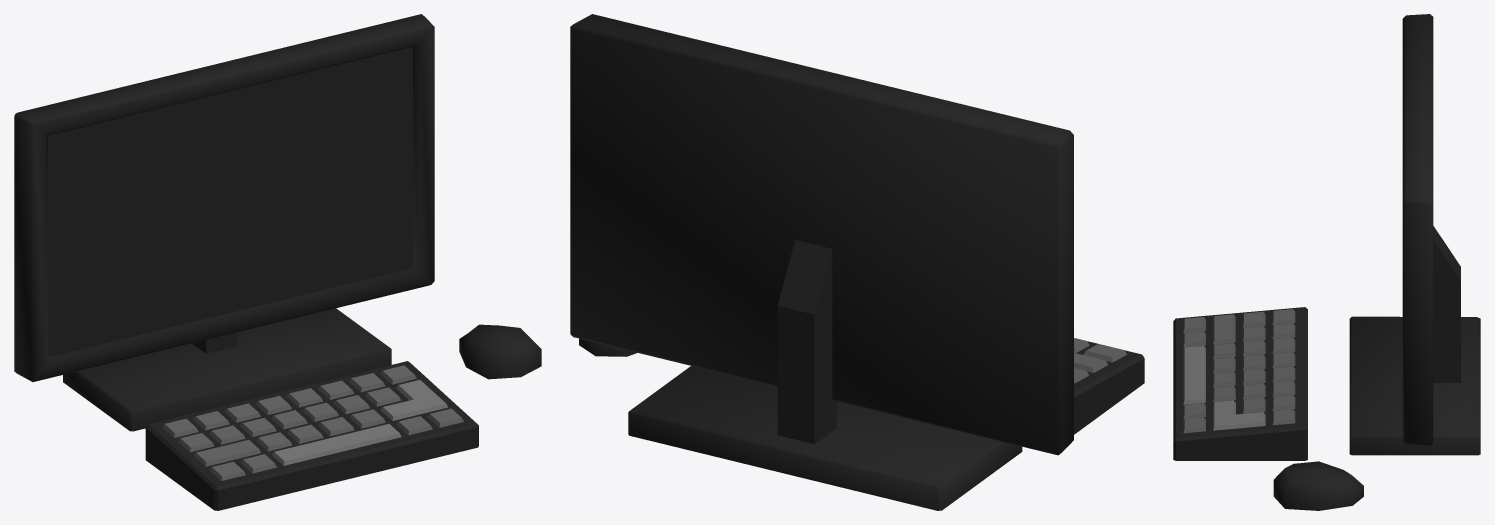
The model's file is electronics_018.fbx.
The picture shows the model from 3 angles, left to right: view 1: azimuth 30°, elevation 25°; view 2: azimuth 150°, elevation 25°; view 3: azimuth 270°, elevation 25°; orthographic projection. The views are drawn at different scales.
Visible parts, largest first — view 1: electronics_018; view 2: electronics_018; view 3: electronics_018.
Boxes of the visible parts, x1,y1,x2,y2 form: electronics_018: (14,14,541,510); electronics_018: (570,14,1144,510); electronics_018: (1173,14,1480,510).
Size of the model in its own units: 116 by 71.97 by 76.6.
